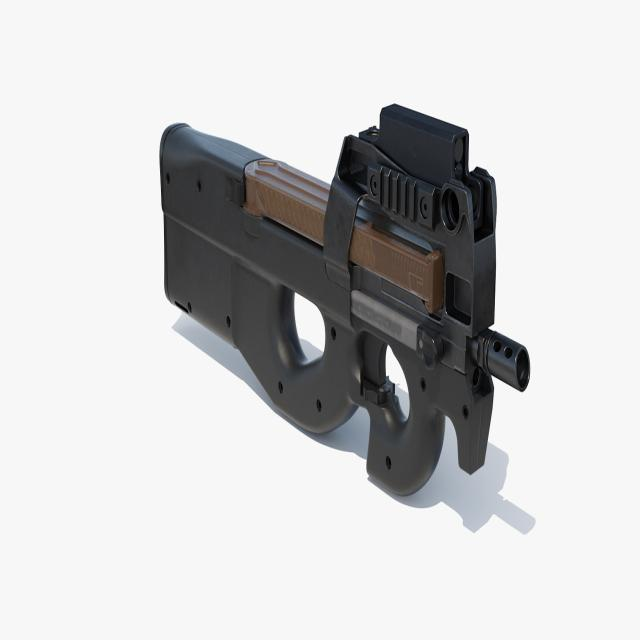Gun: (163, 84, 535, 519)
